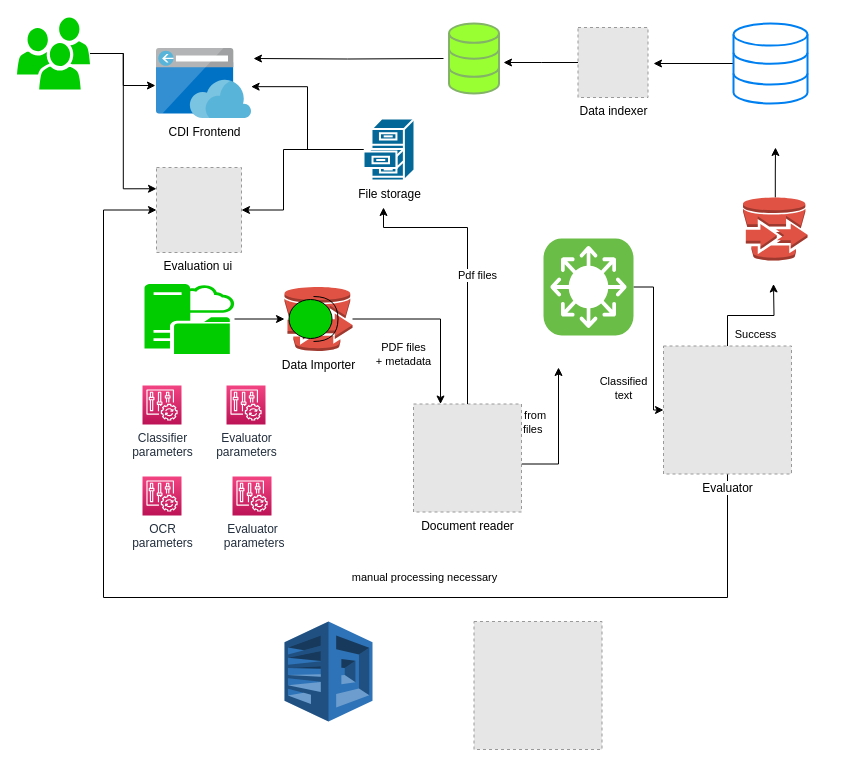
The diagram is 855 pixels wide and 767 high, and some of its shapes have lost their labels. Grey dashed boxes stand in for pictures. Here are the shapes that lost their labels. From the top down, the centre of each, then its label:
(474,58): Fast access ElasticSearch DB
(770,63): Database
(775,228): Cognitive data Importer
(588,287): Text classifier
(189,319): Source systems
